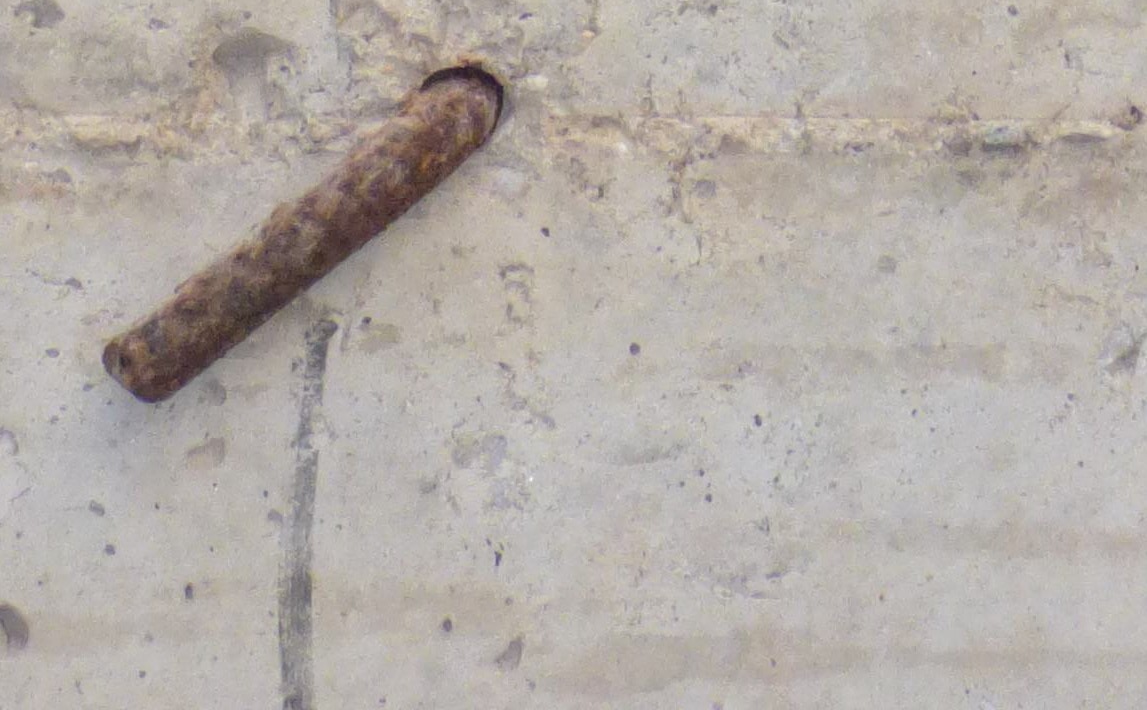Exposed reinforcement: (102, 77, 501, 404)
